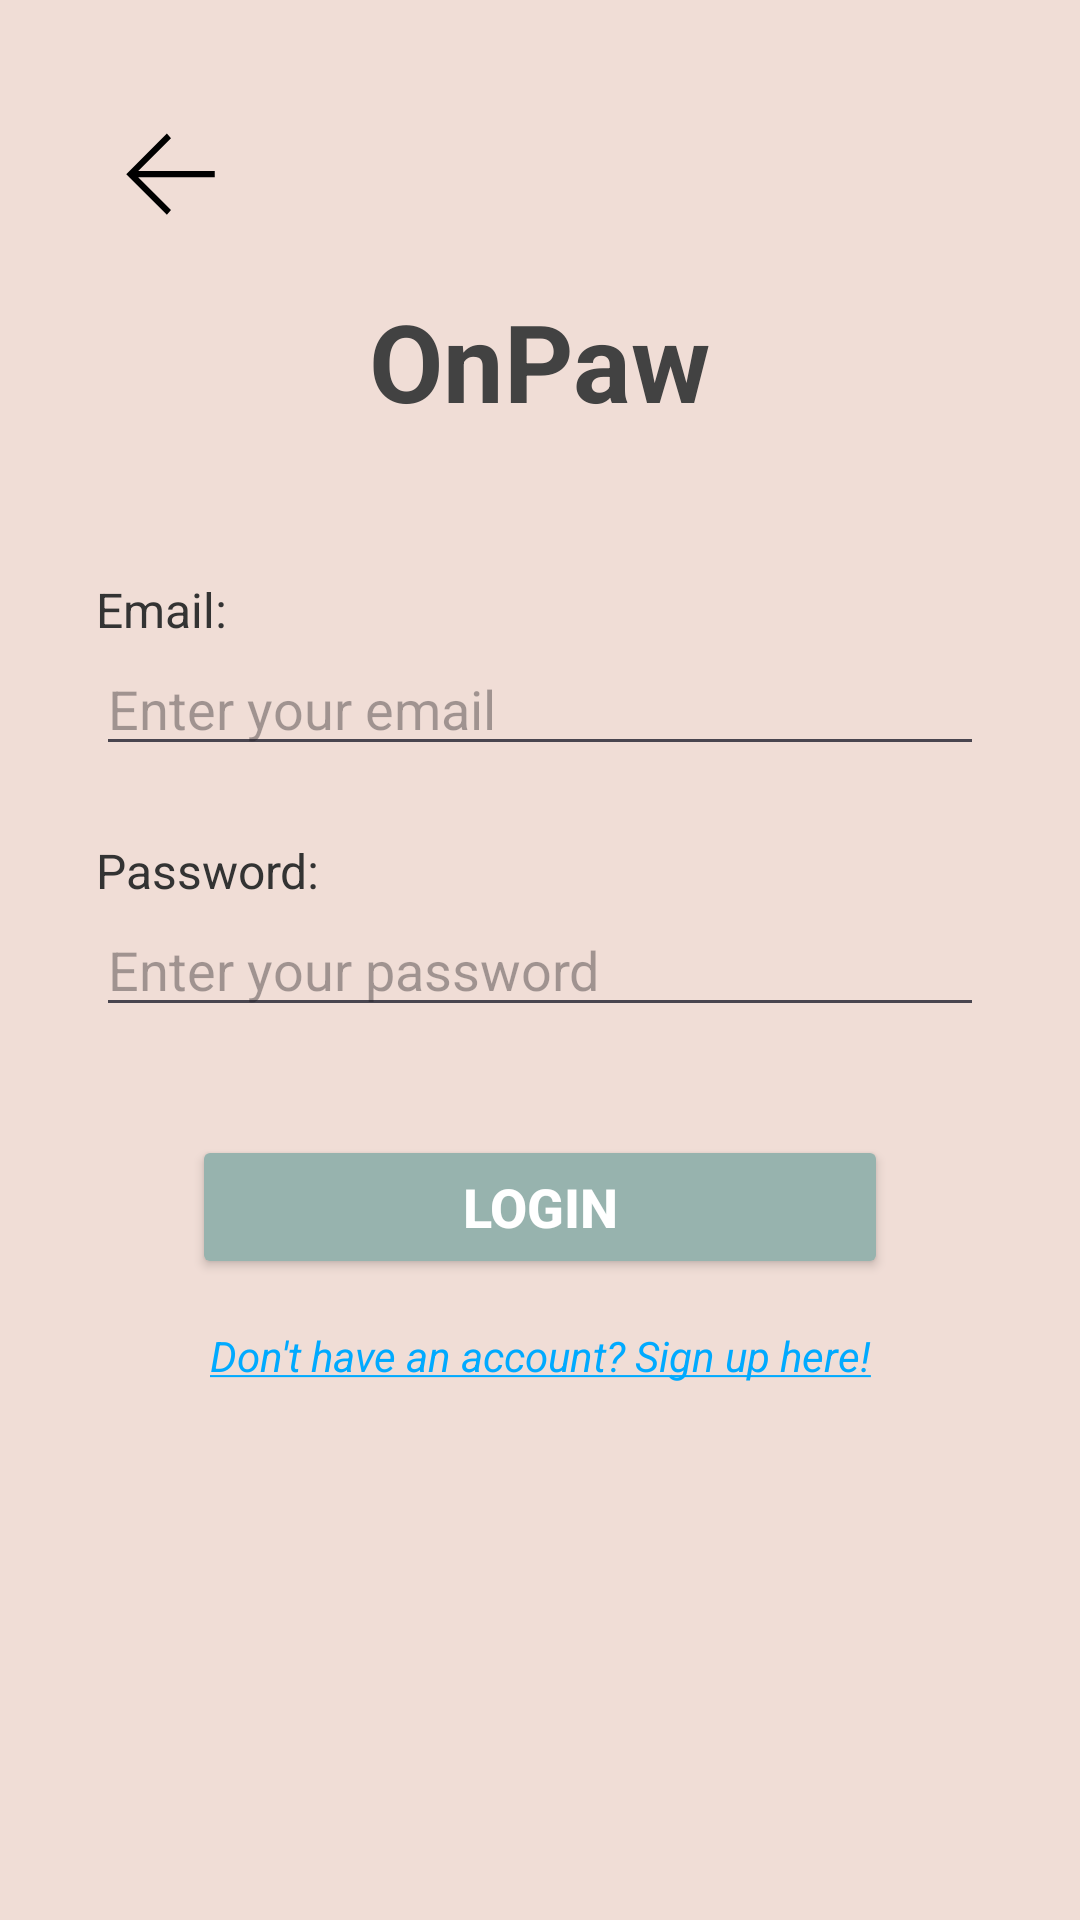

Where icons sit on this 1080px×1920px app screen, as (left=x1, top=y1, right=x2, bottom=y2):
Back button: (left=126, top=133, right=215, bottom=215)
